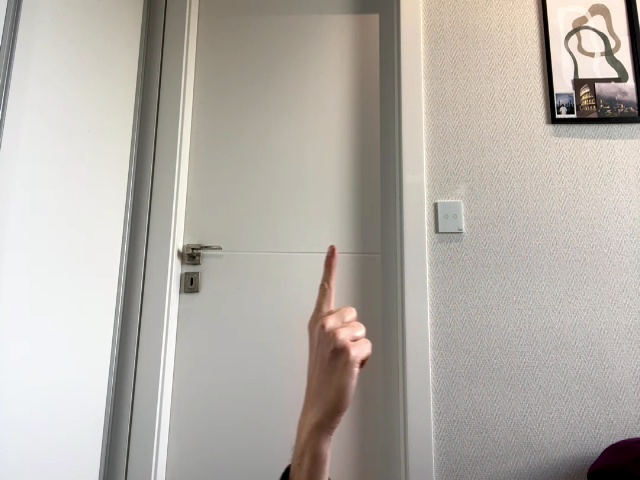D: (307, 245, 372, 434)
